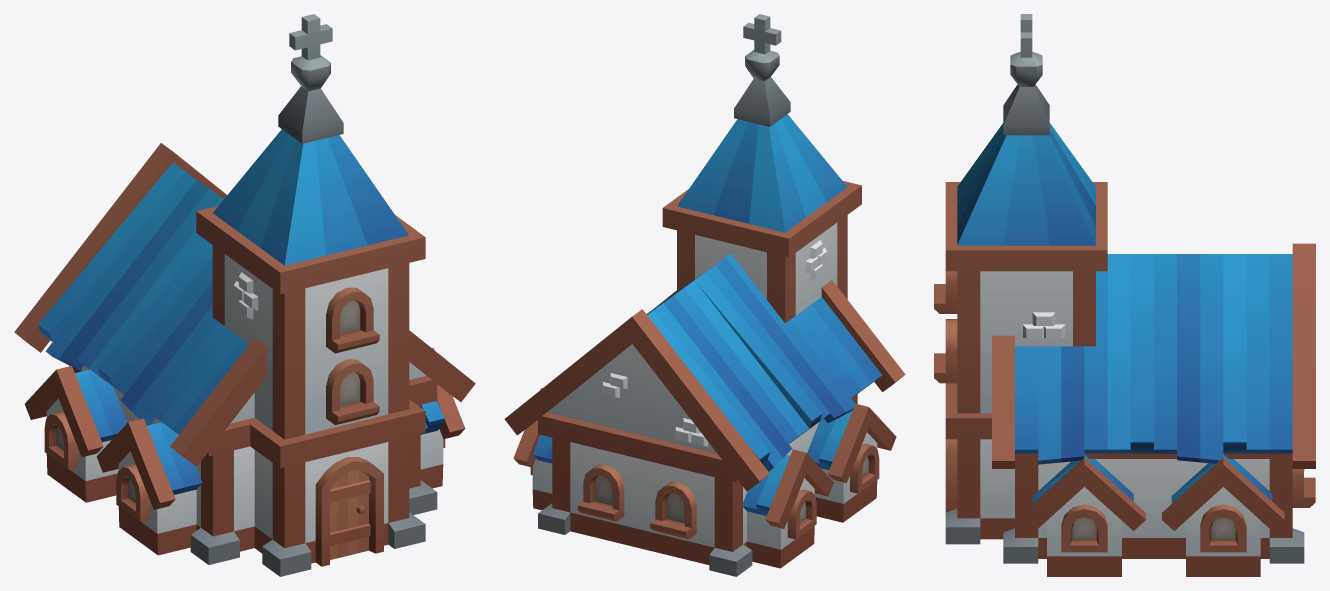
Rendered from church_blue.glb.
3 views of the same model, side by side, from view 1: azimuth 30°, elevation 25°; view 2: azimuth 150°, elevation 25°; view 3: azimuth 270°, elevation 25° (orthographic). The views are drawn at different scales.
Parts seen in each view (by area): view 1: building_church_blue; view 2: building_church_blue; view 3: building_church_blue.
Boxes of the visible parts, x1,y1,x2,y2 form: building_church_blue: [14, 14, 475, 576]; building_church_blue: [504, 14, 905, 576]; building_church_blue: [934, 14, 1315, 576].
Size of the model in its own units: 1.03 by 1.65 by 1.16.
Materials: 1 (1 with a texture image).
